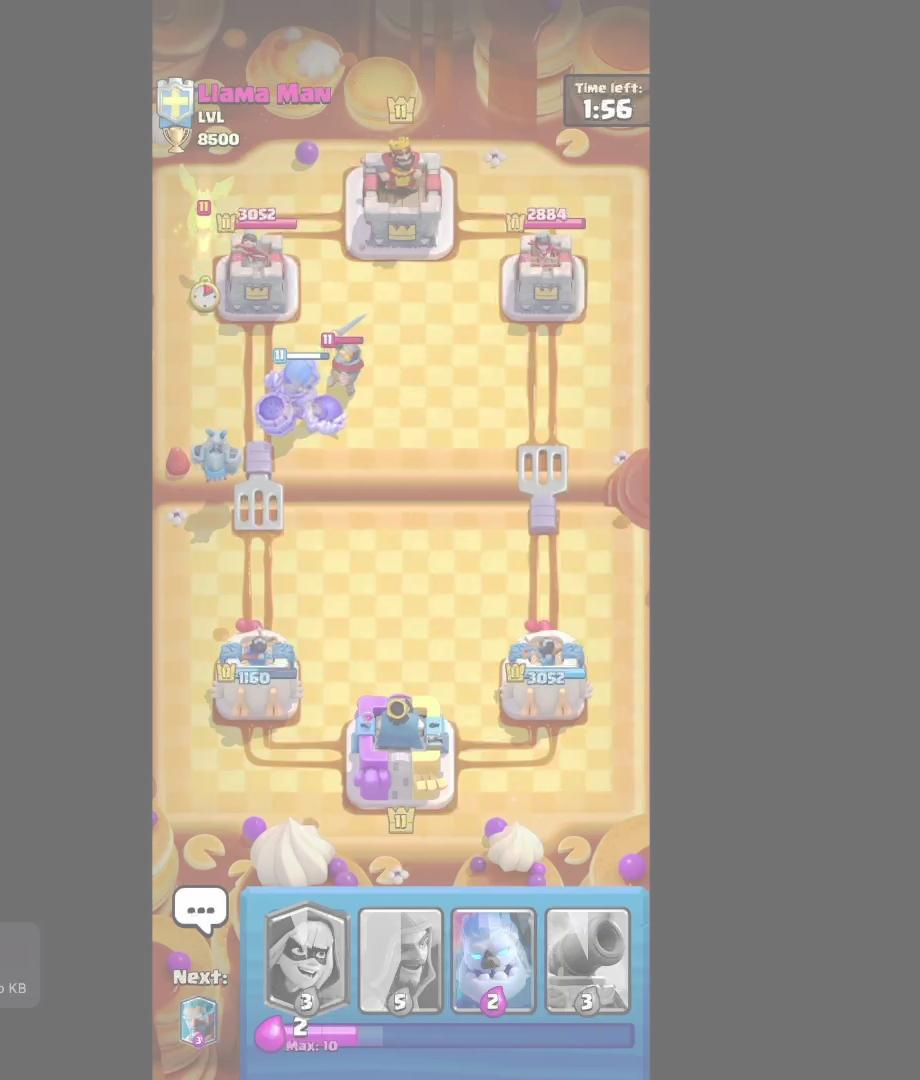Baby Dragon: (169, 172, 241, 255)
Knight: (320, 320, 378, 399)
